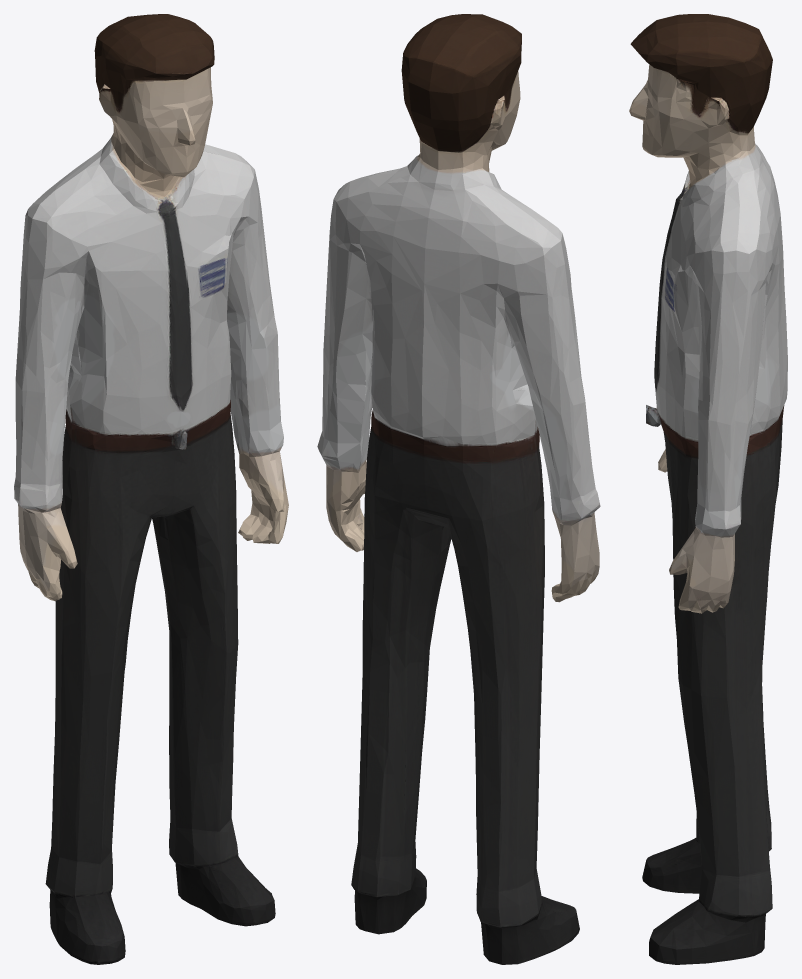
The model's file is worker.glb.
3 views of the same model, side by side, from view 1: azimuth 30°, elevation 25°; view 2: azimuth 150°, elevation 25°; view 3: azimuth 270°, elevation 25° (orthographic).
Parts seen in each view (by area): view 1: world; view 2: world; view 3: world.
Boxes of the visible parts, box(x1,y1,x2,y2) form: world: box(14, 14, 288, 964); world: box(317, 14, 600, 964); world: box(629, 14, 787, 964).
Size of the model in its own units: 3.4 by 10.76 by 1.73.
Materials: 1 (1 with a texture image).
